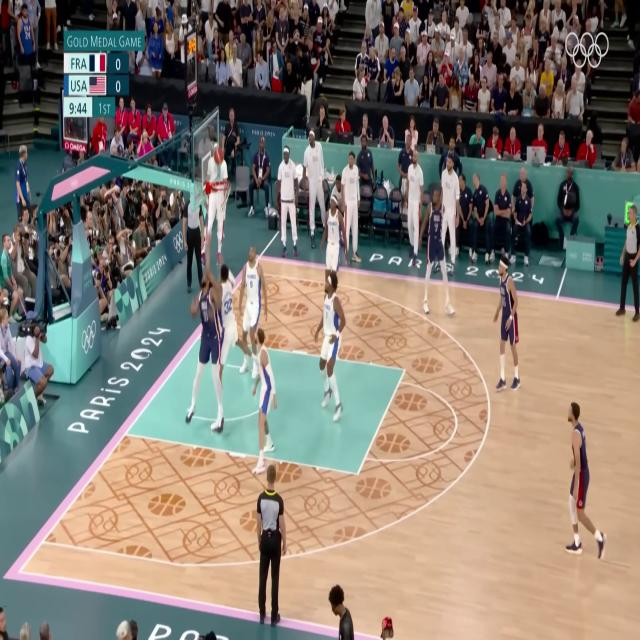player: (562, 398, 610, 565), (205, 246, 242, 394), (488, 255, 526, 397), (194, 264, 224, 442), (421, 185, 456, 328), (312, 272, 344, 428), (248, 321, 278, 478), (236, 243, 259, 378), (316, 192, 340, 295)
